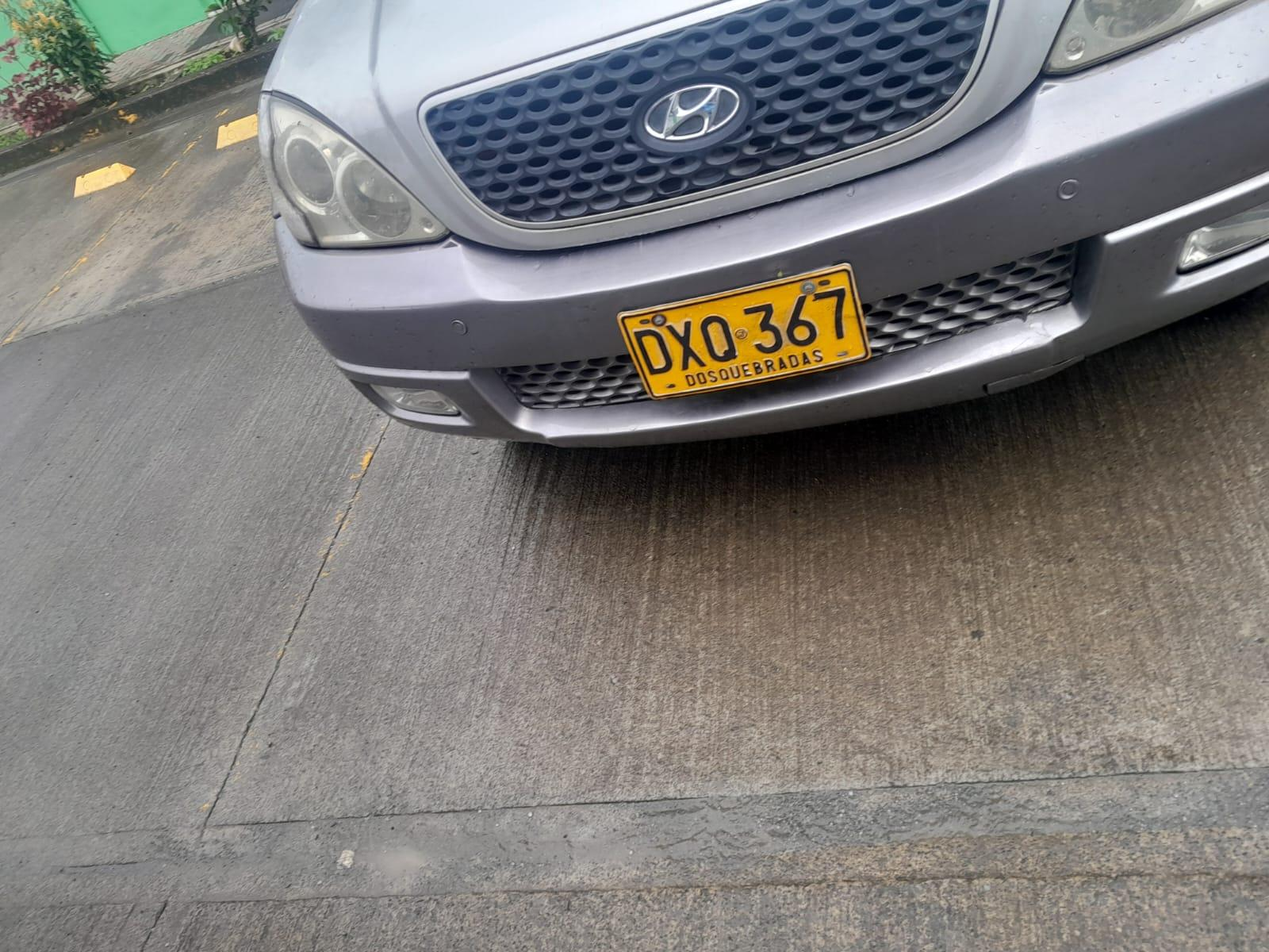placa: (619, 265, 872, 398)
